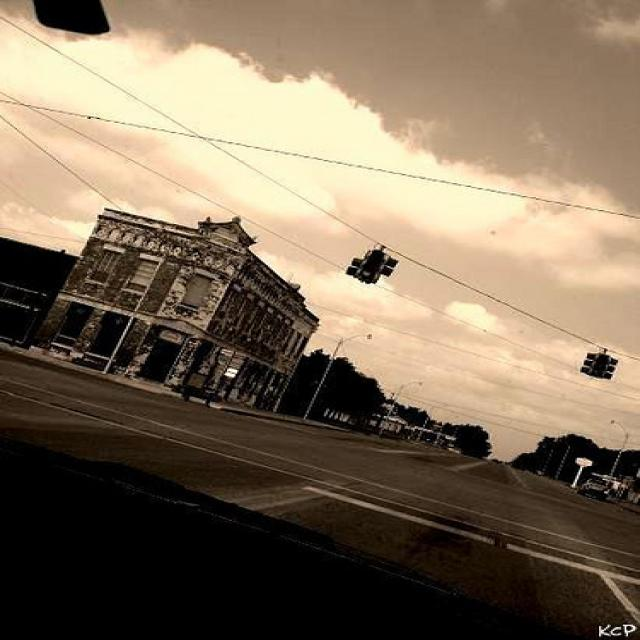Vehicle: (578, 478, 612, 502), (442, 441, 462, 454)
